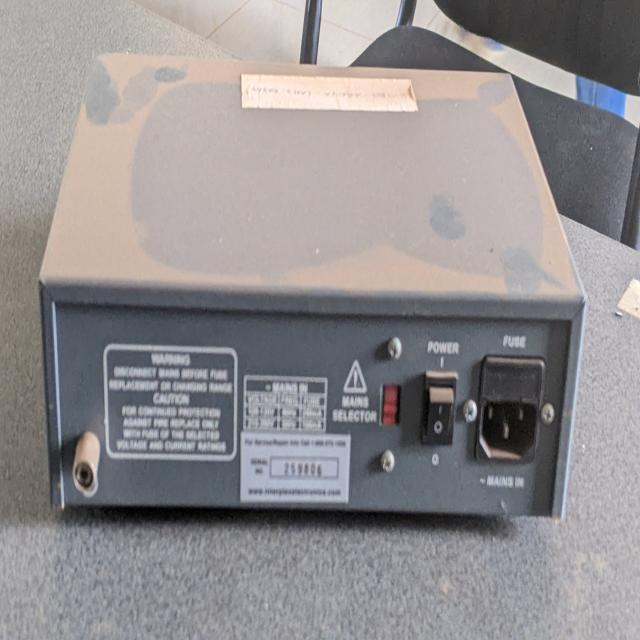A 200KHZ Function Generator: (37, 41, 589, 538)
